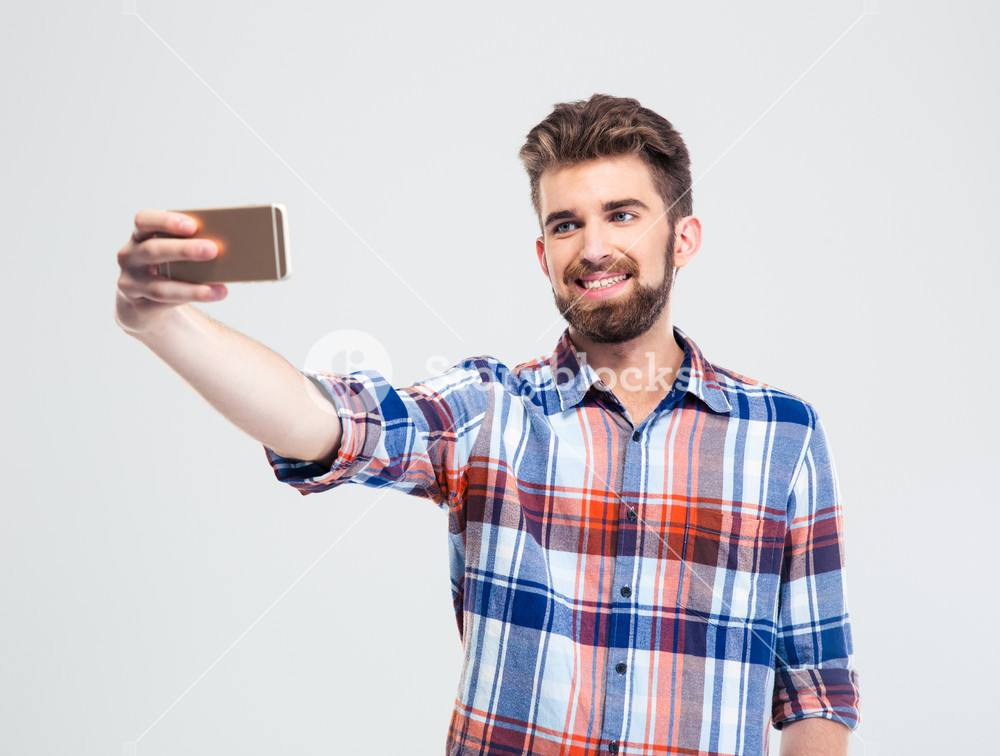taking photos: (104, 198, 293, 340)
